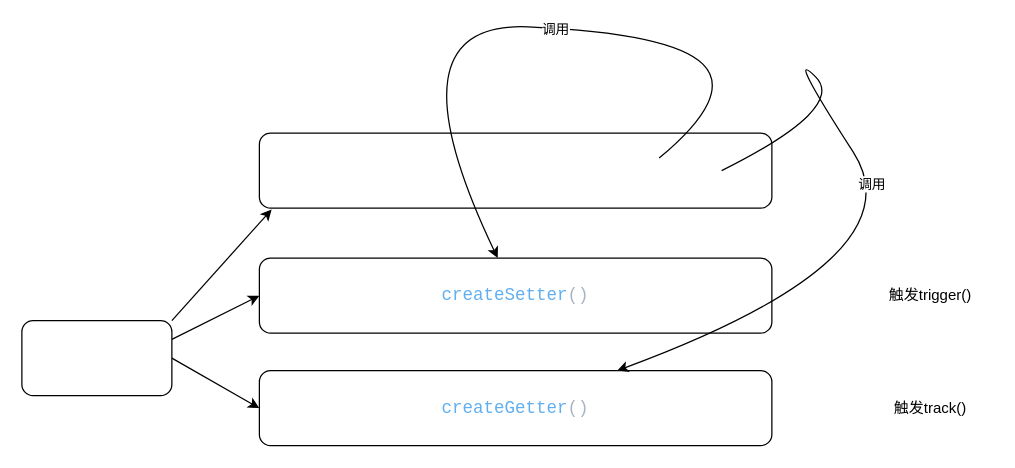
Image size: 1015x468. Some labels were removed from this diagram. Here are the shapes that lost their labels. From the top down, the centre of each, then its label:
At point (515, 170): "mutableHandlers : ProxyHandler = { get , set };".
At point (96, 357): "baseHandlers.ts".
